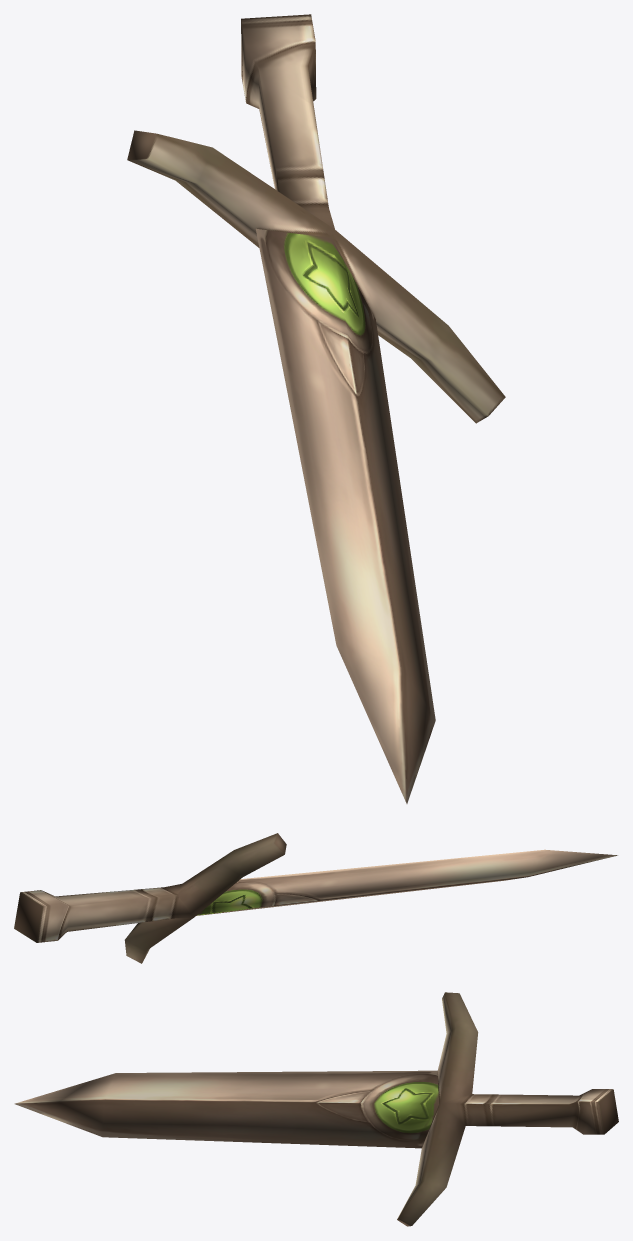
File: Sword(45).obj
The picture shows the model from 3 angles, top to bottom: view 1: azimuth 30°, elevation 25°; view 2: azimuth 150°, elevation 25°; view 3: azimuth 270°, elevation 25°; orthographic projection. The views are drawn at different scales.
Parts seen in each view (by area): view 1: sword1_LOD003; view 2: sword1_LOD003; view 3: sword1_LOD003.
Boxes of the visible parts, x1=… form: sword1_LOD003: x1=127, y1=14, x2=505, y2=803; sword1_LOD003: x1=14, y1=833, x2=617, y2=963; sword1_LOD003: x1=14, y1=992, x2=618, y2=1226.
Size of the model in its own units: 0.5912 by 0.378 by 1.25.
